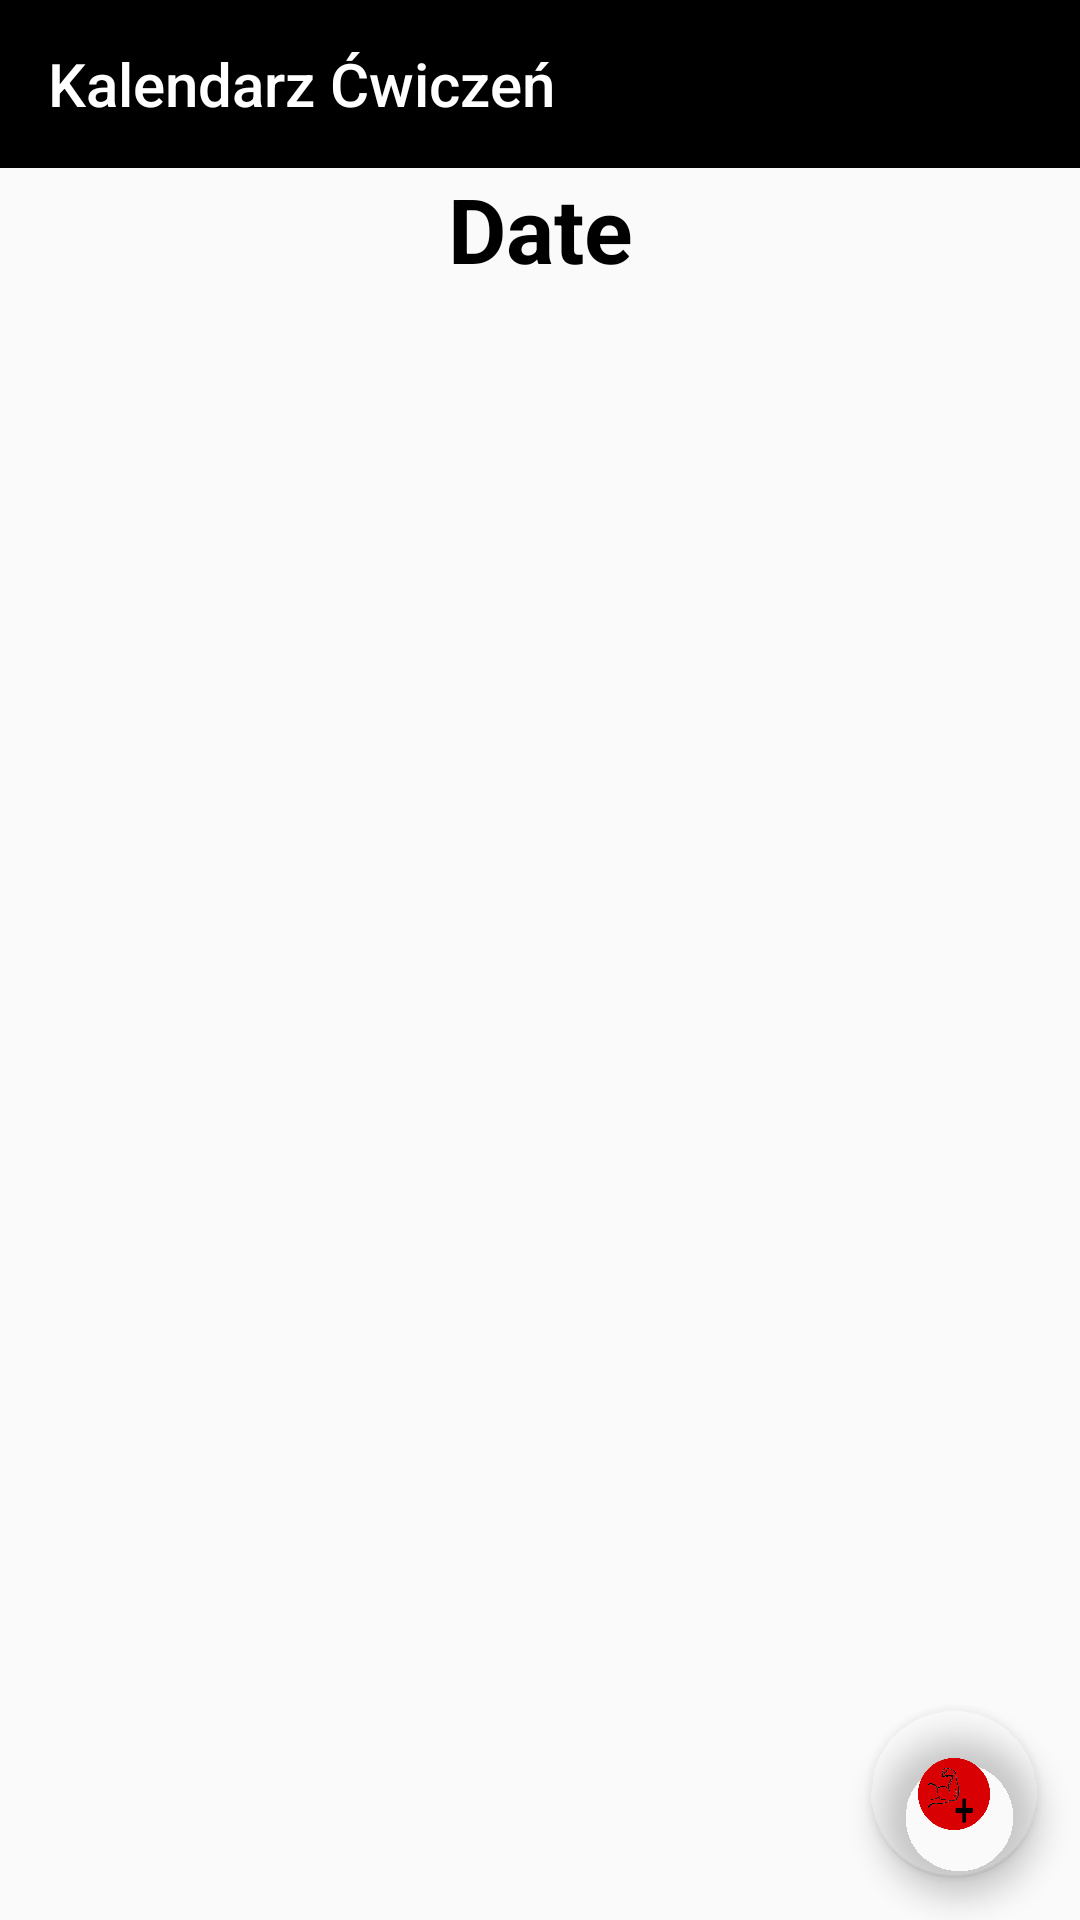

Where to tap for icons on this 1080x1920 app screen, as [x,y]:
addbutton: [955,1808]
